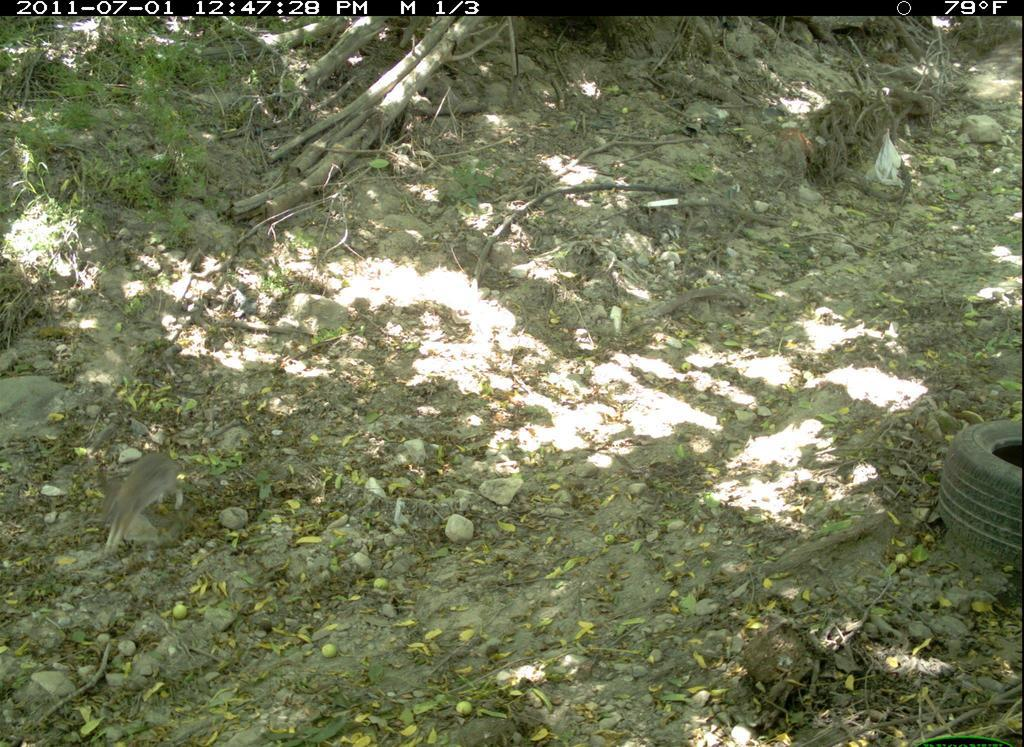rabbit: (84, 449, 218, 557)
